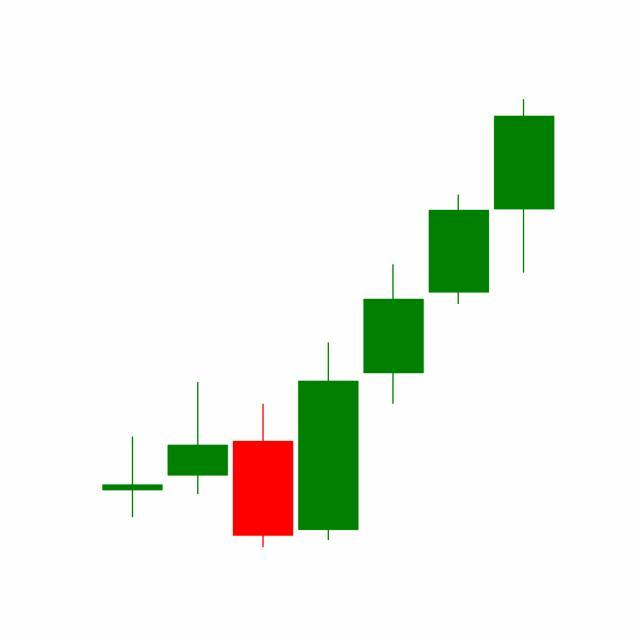Advance Block: (295, 191, 492, 545)
